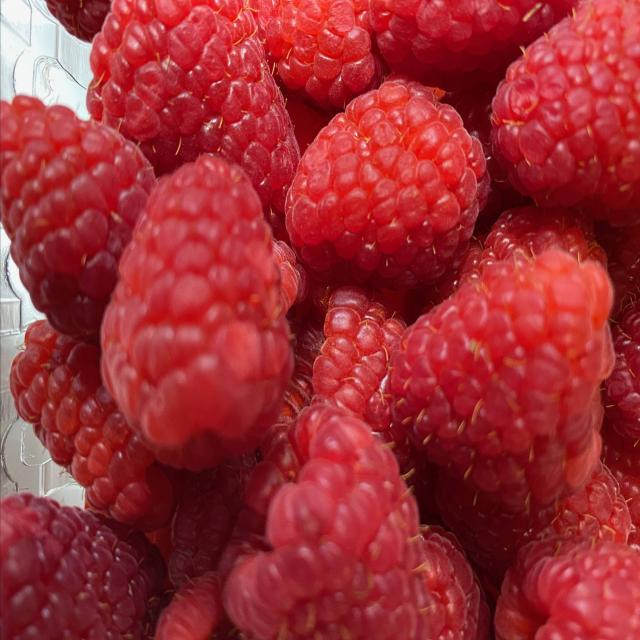raspberries: (11, 13, 634, 624)
